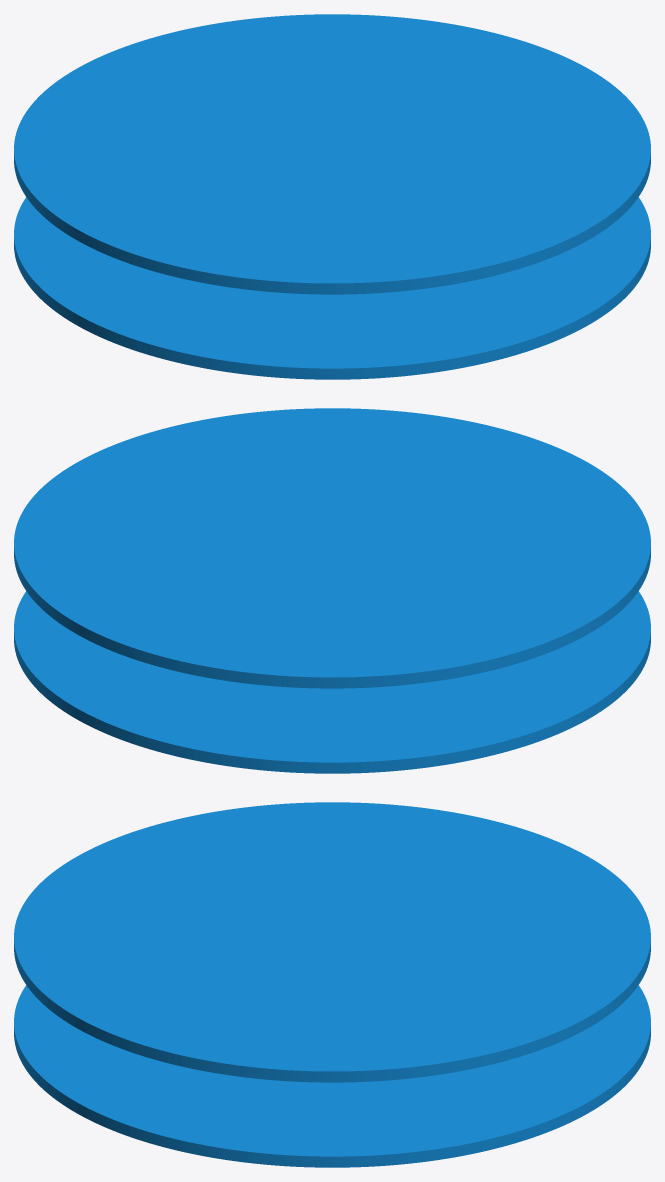
The model's file is swivel.dae.
3 views of the same model, one above another, from view 1: azimuth 30°, elevation 25°; view 2: azimuth 150°, elevation 25°; view 3: azimuth 270°, elevation 25° (orthographic).
Parts seen in each view (by area): view 1: swivel; view 2: swivel; view 3: swivel.
Part boxes in pixels (x1,y1,x2,y2): swivel: [14, 14, 650, 379]; swivel: [14, 408, 650, 773]; swivel: [14, 802, 650, 1167].
Size of the model in its own units: 78 by 78 by 13.
